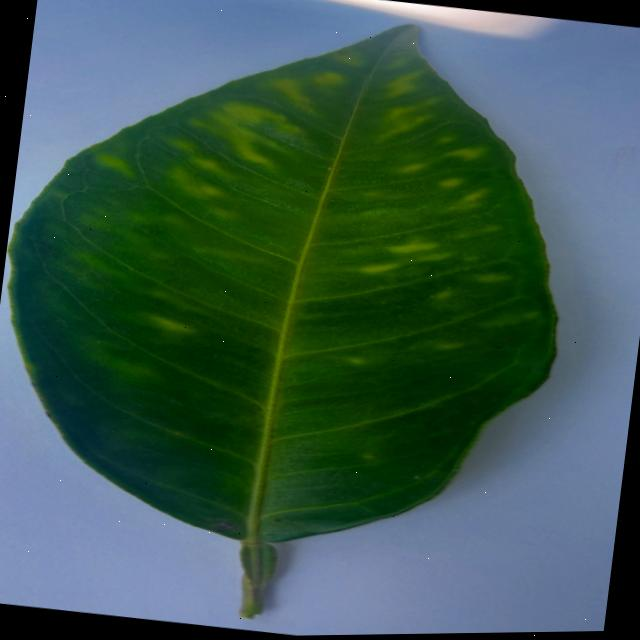greening: (11, 25, 556, 617)
